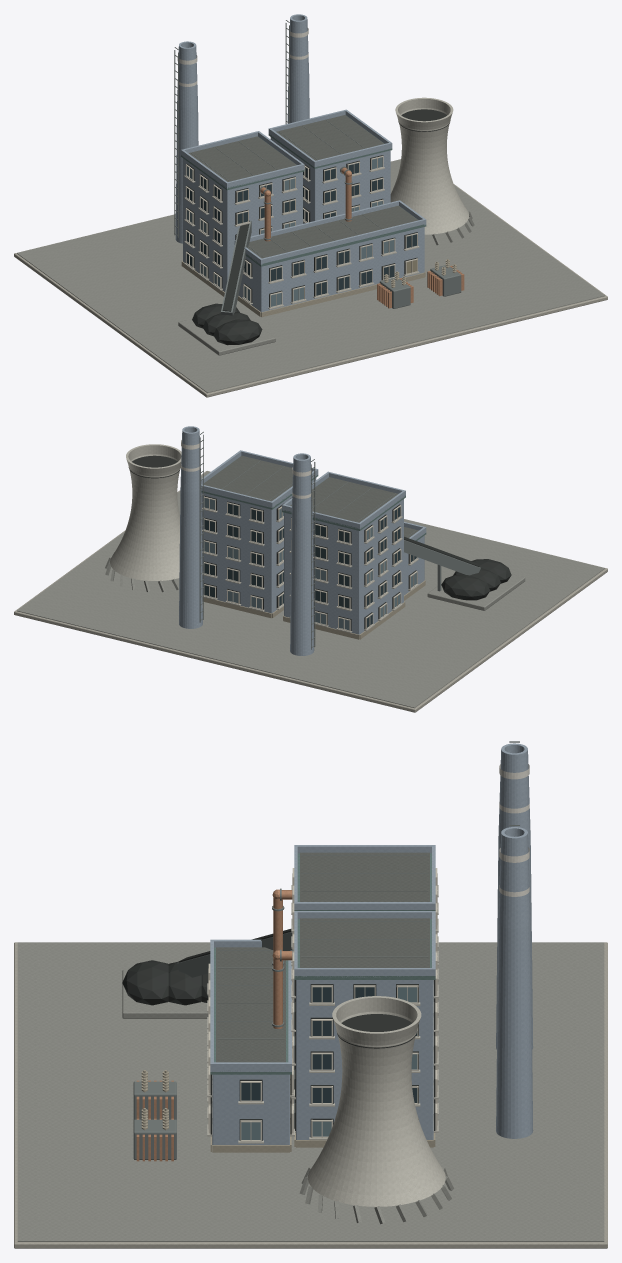
File: EXP_POWER_COAL_LARGE.glb
3 views of the same model, one above another, from view 1: azimuth 30°, elevation 25°; view 2: azimuth 150°, elevation 25°; view 3: azimuth 270°, elevation 25° (orthographic). The views are drawn at different scales.
Parts seen in each view (by area): view 1: EXP_POWER_COAL_LARGE_Visual; view 2: EXP_POWER_COAL_LARGE_Visual; view 3: EXP_POWER_COAL_LARGE_Visual.
Part boxes in pixels (<box>): EXP_POWER_COAL_LARGE_Visual: <box>14,14,607,397</box>; EXP_POWER_COAL_LARGE_Visual: <box>14,426,607,712</box>; EXP_POWER_COAL_LARGE_Visual: <box>14,741,607,1248</box>.
Size of what is drawn, in the model's own units: 11.92 by 5.64 by 9.92.
Materials: 15 (9 with a texture image).
